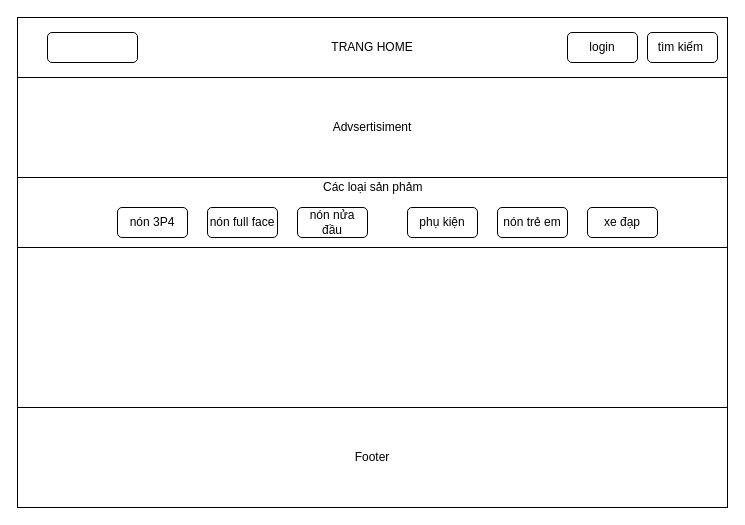
This 745x525 diagram has some shape labels left out. The shapes that lost their labels are listed below. From the top down, each one's box as (x1, y1, x2, y2) in pixels, then its label:
(46, 32, 138, 62): logo
(16, 246, 728, 408): CÁC SẢN PHẨM ĐƯỢC TRƯNG BÀY
